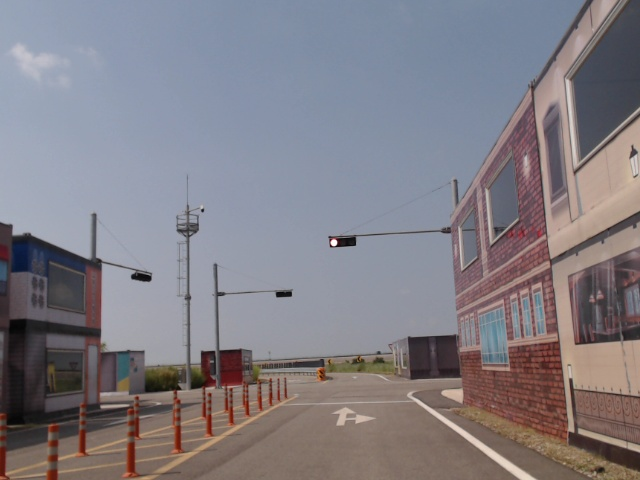red_3: (330, 238, 355, 247)
